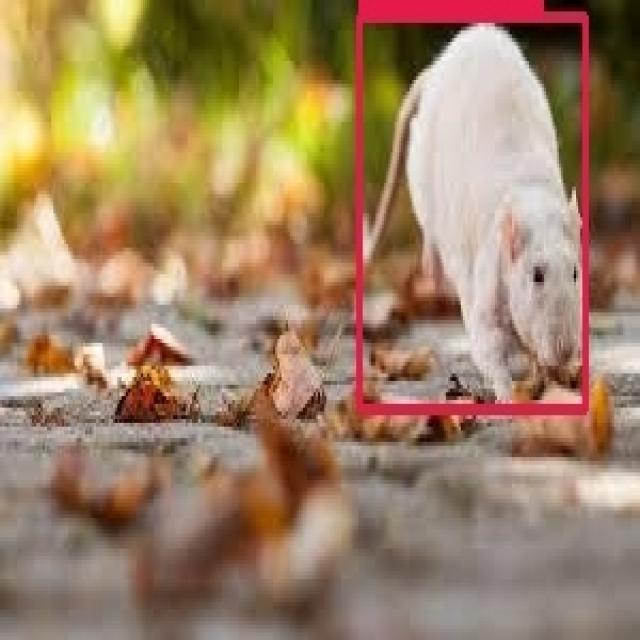rat: (357, 11, 582, 404)
